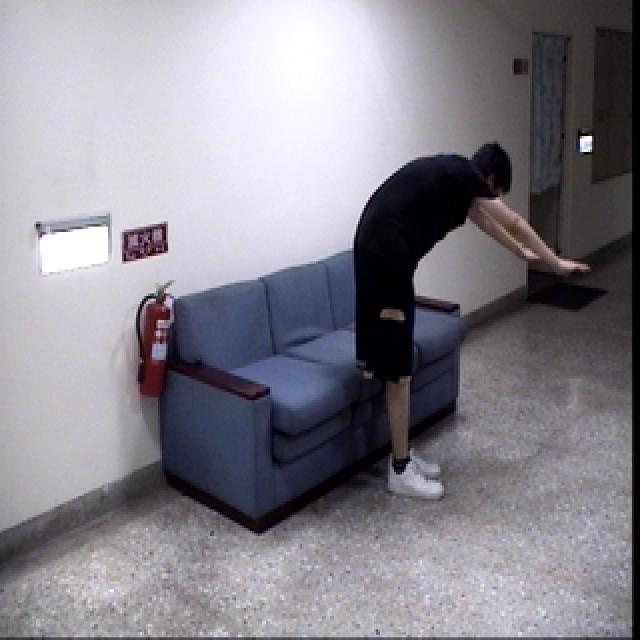bend: (345, 136, 598, 509)
